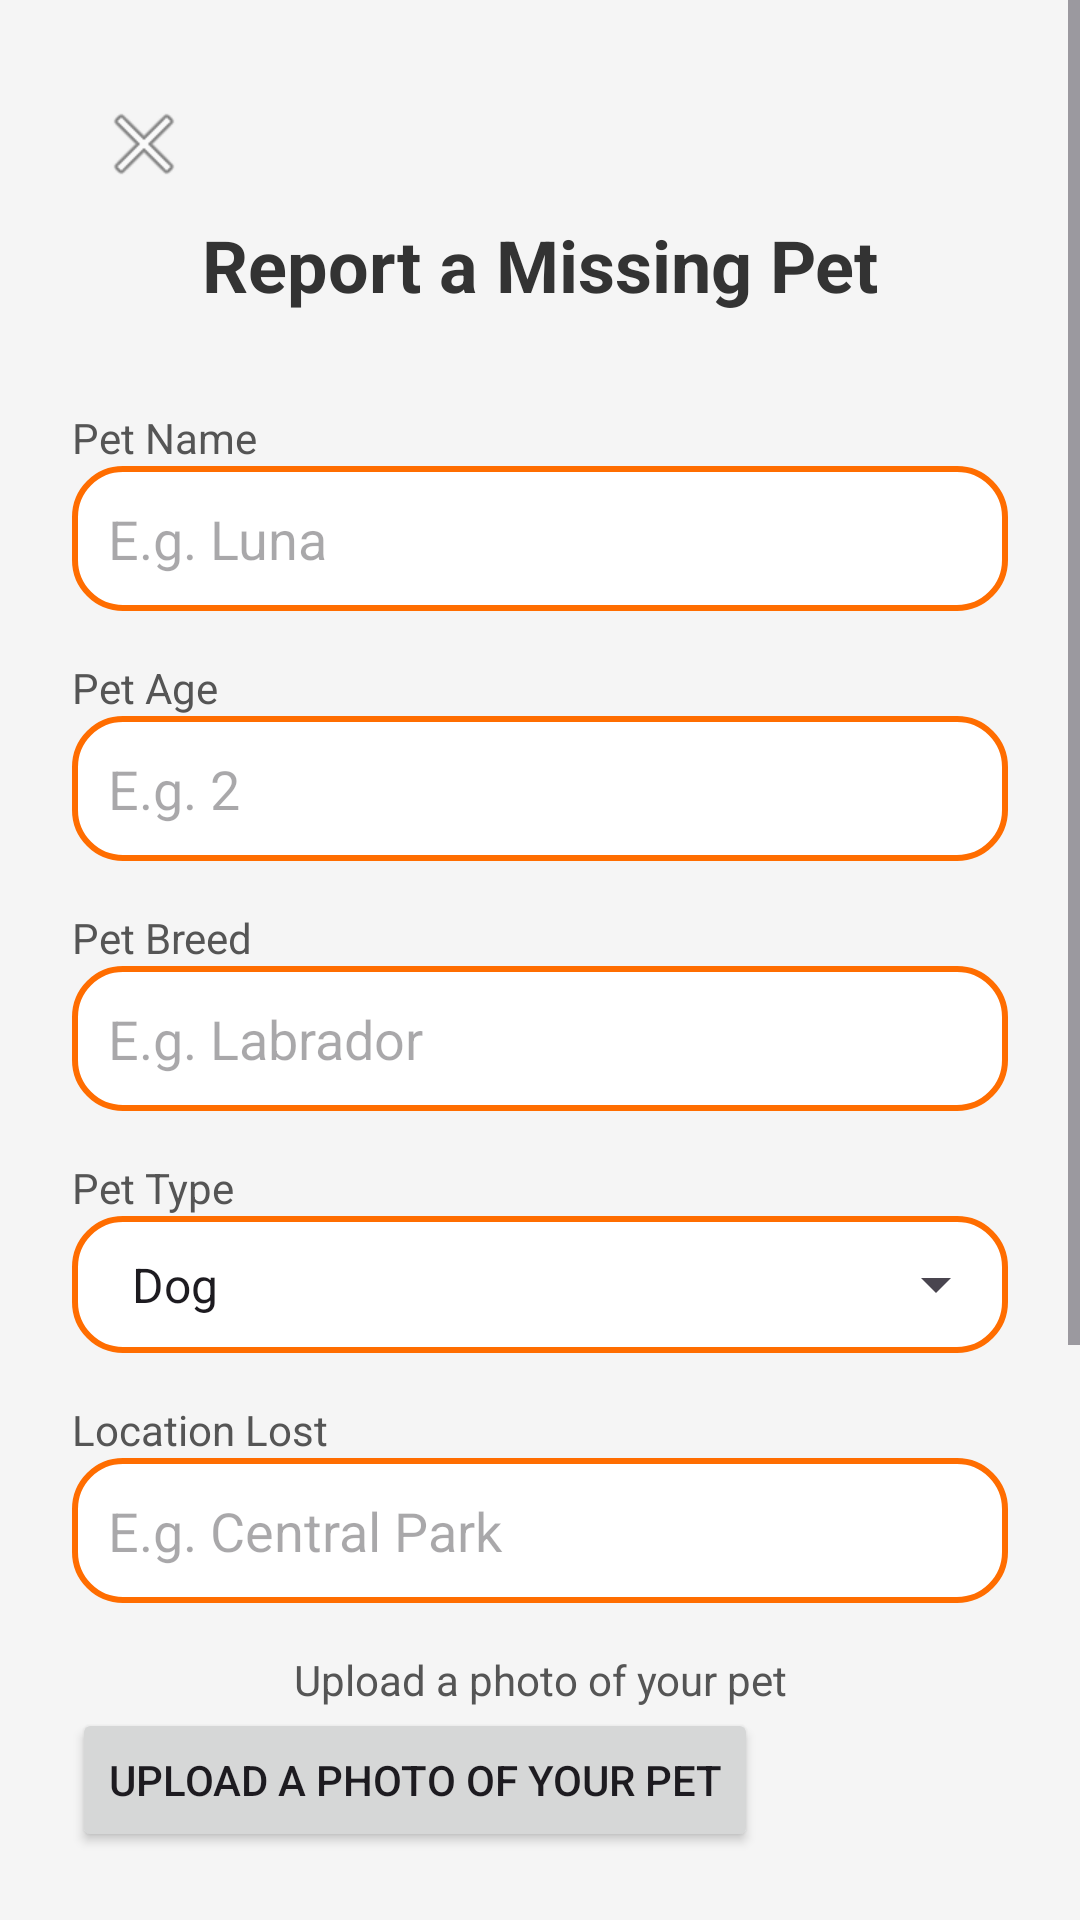

Point at icon controls on the screen. Image size 1080px×1920px, points as [x,y].
Cerrar pantalla: [144,144]
